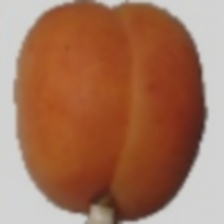apricot: (60, 14, 195, 193)
